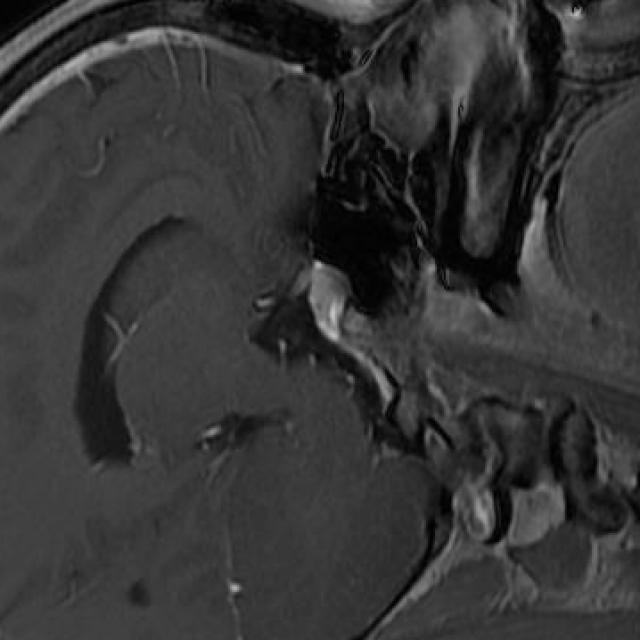pituitary: (305, 260, 346, 342)
